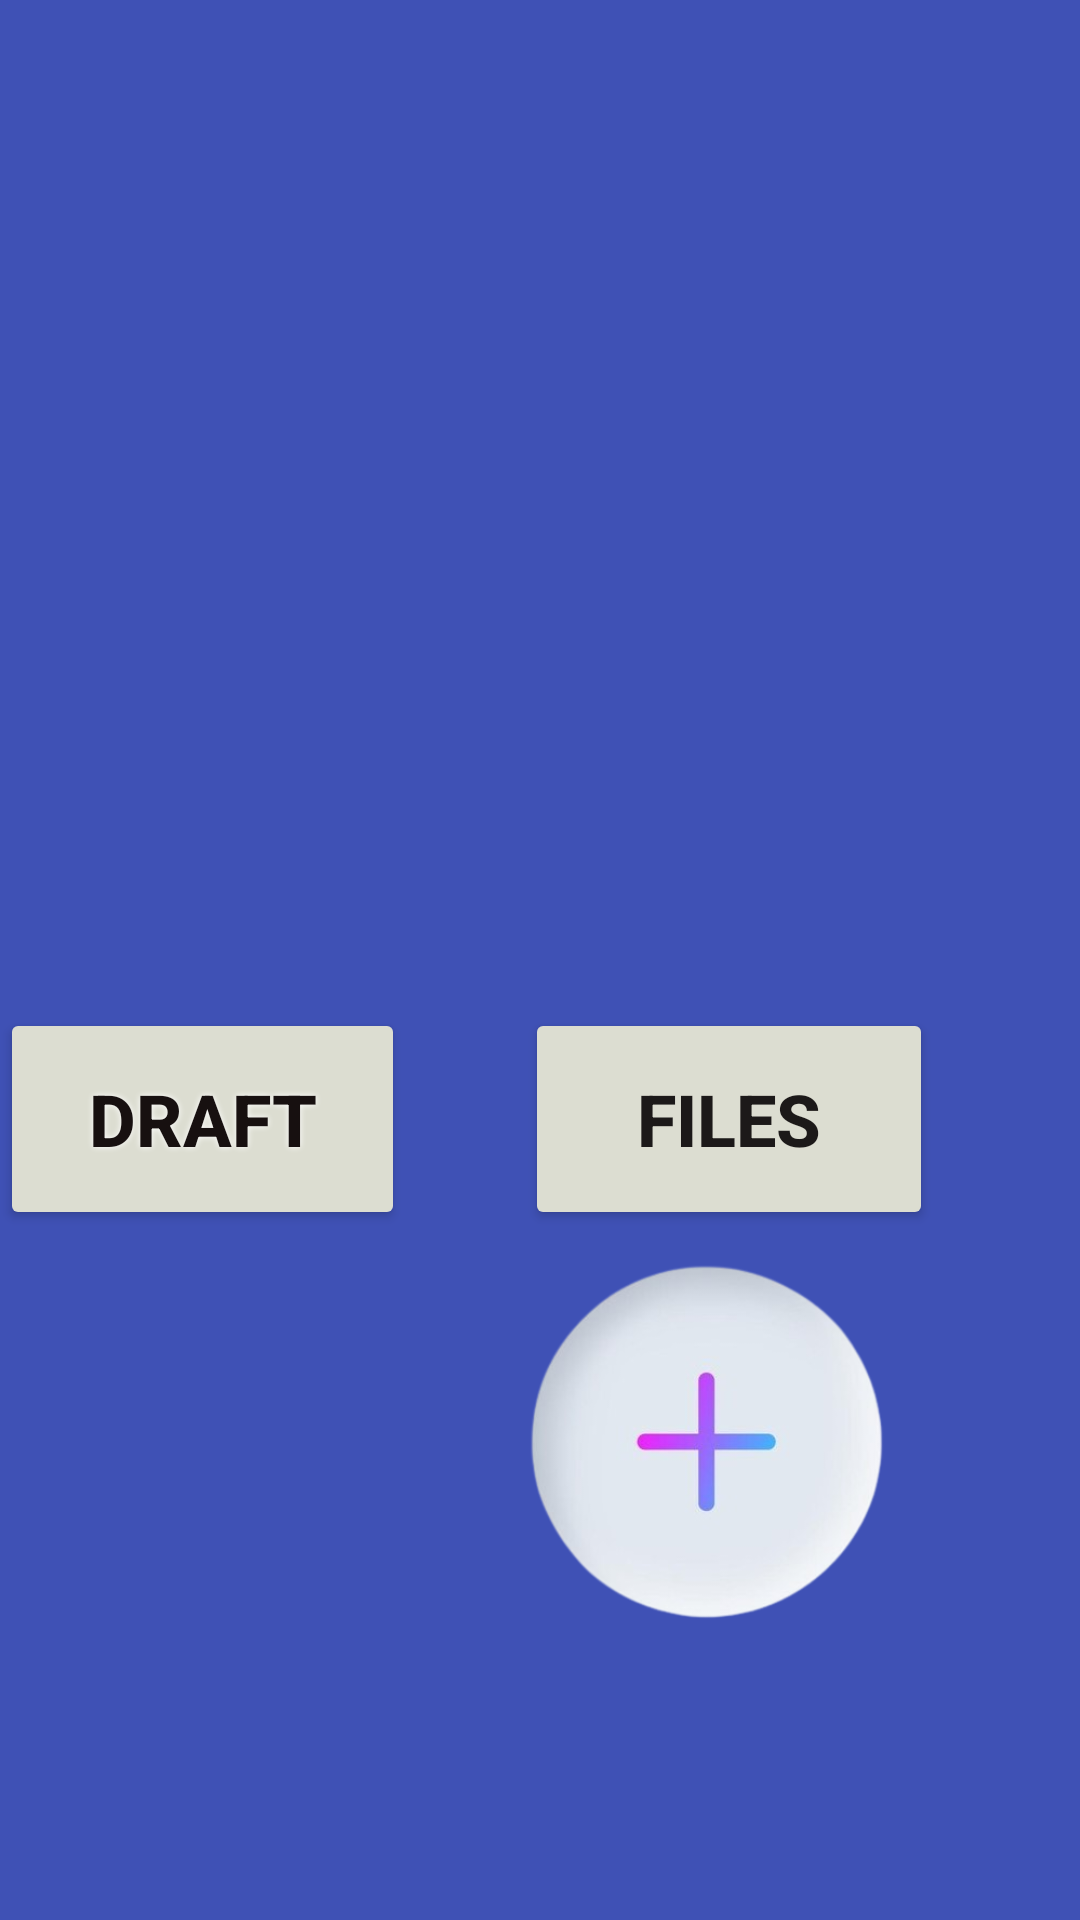

Where icons sit on this 1080x1920 app screen, as box=[x1, y1, x2, y2]:
add: box=[531, 1266, 882, 1618]
